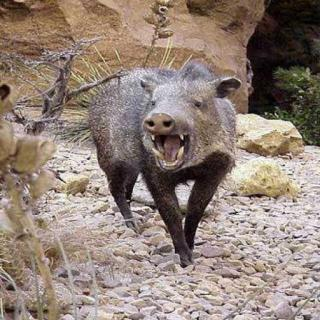Pig: (78, 49, 285, 272)
